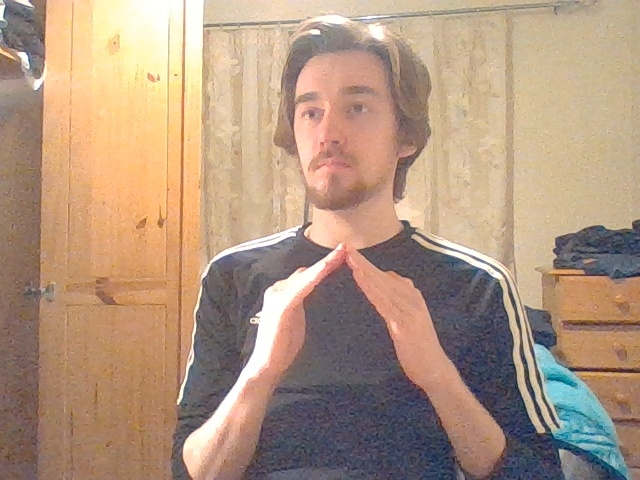home: (262, 242, 428, 326)
